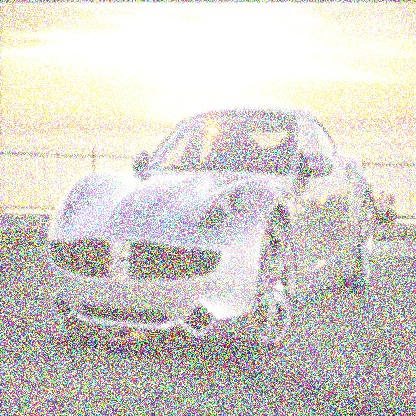Vehicle: (46, 103, 378, 362)
